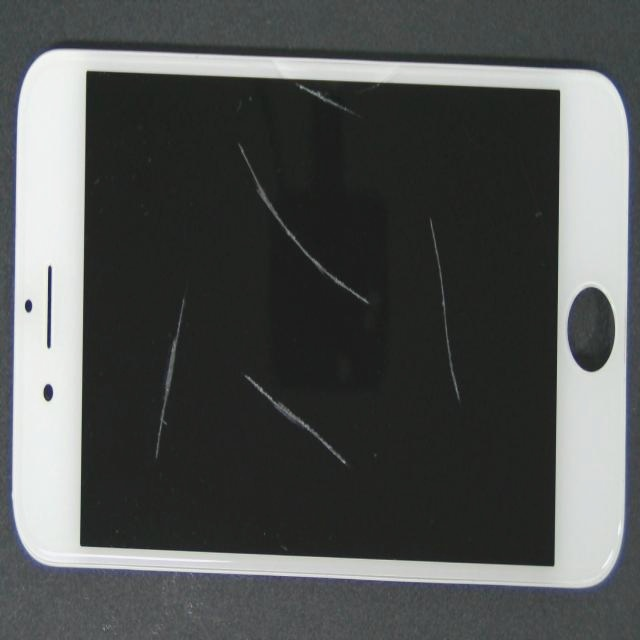scratch: (103, 24, 250, 518)
